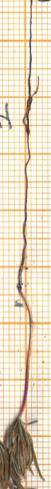flower: (0, 414, 51, 489)
root: (12, 1, 42, 306)
stem: (7, 304, 42, 418)
